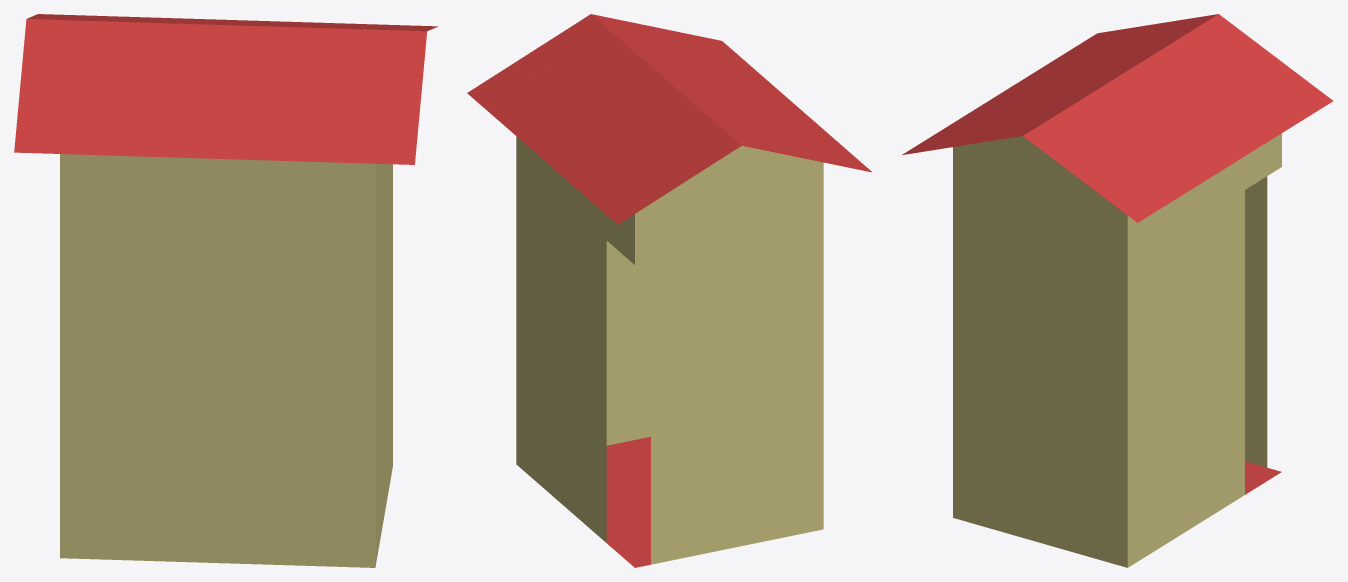
3 views of the same model, side by side, from view 1: azimuth 30°, elevation 25°; view 2: azimuth 150°, elevation 25°; view 3: azimuth 270°, elevation 25° (orthographic). The views are drawn at different scales.
Parts seen in each view (by area): view 1: group_5, group_3, group_4; view 2: group_5, group_3, group_4, group_6; view 3: group_5, group_3, group_4, group_6.
Part boxes in pixels (x1,y1,x2,y2): group_5: (60, 20, 392, 567); group_3: (14, 14, 427, 164); group_4: (27, 16, 438, 164); group_5: (516, 136, 823, 564); group_3: (516, 14, 872, 224); group_4: (467, 14, 741, 192); group_6: (606, 436, 650, 567); group_5: (953, 133, 1281, 567); group_3: (902, 14, 1332, 186); group_4: (902, 14, 1286, 222); group_6: (1245, 461, 1281, 494).
Size of the model in its own units: 9.07 by 8.73 by 9.38.
